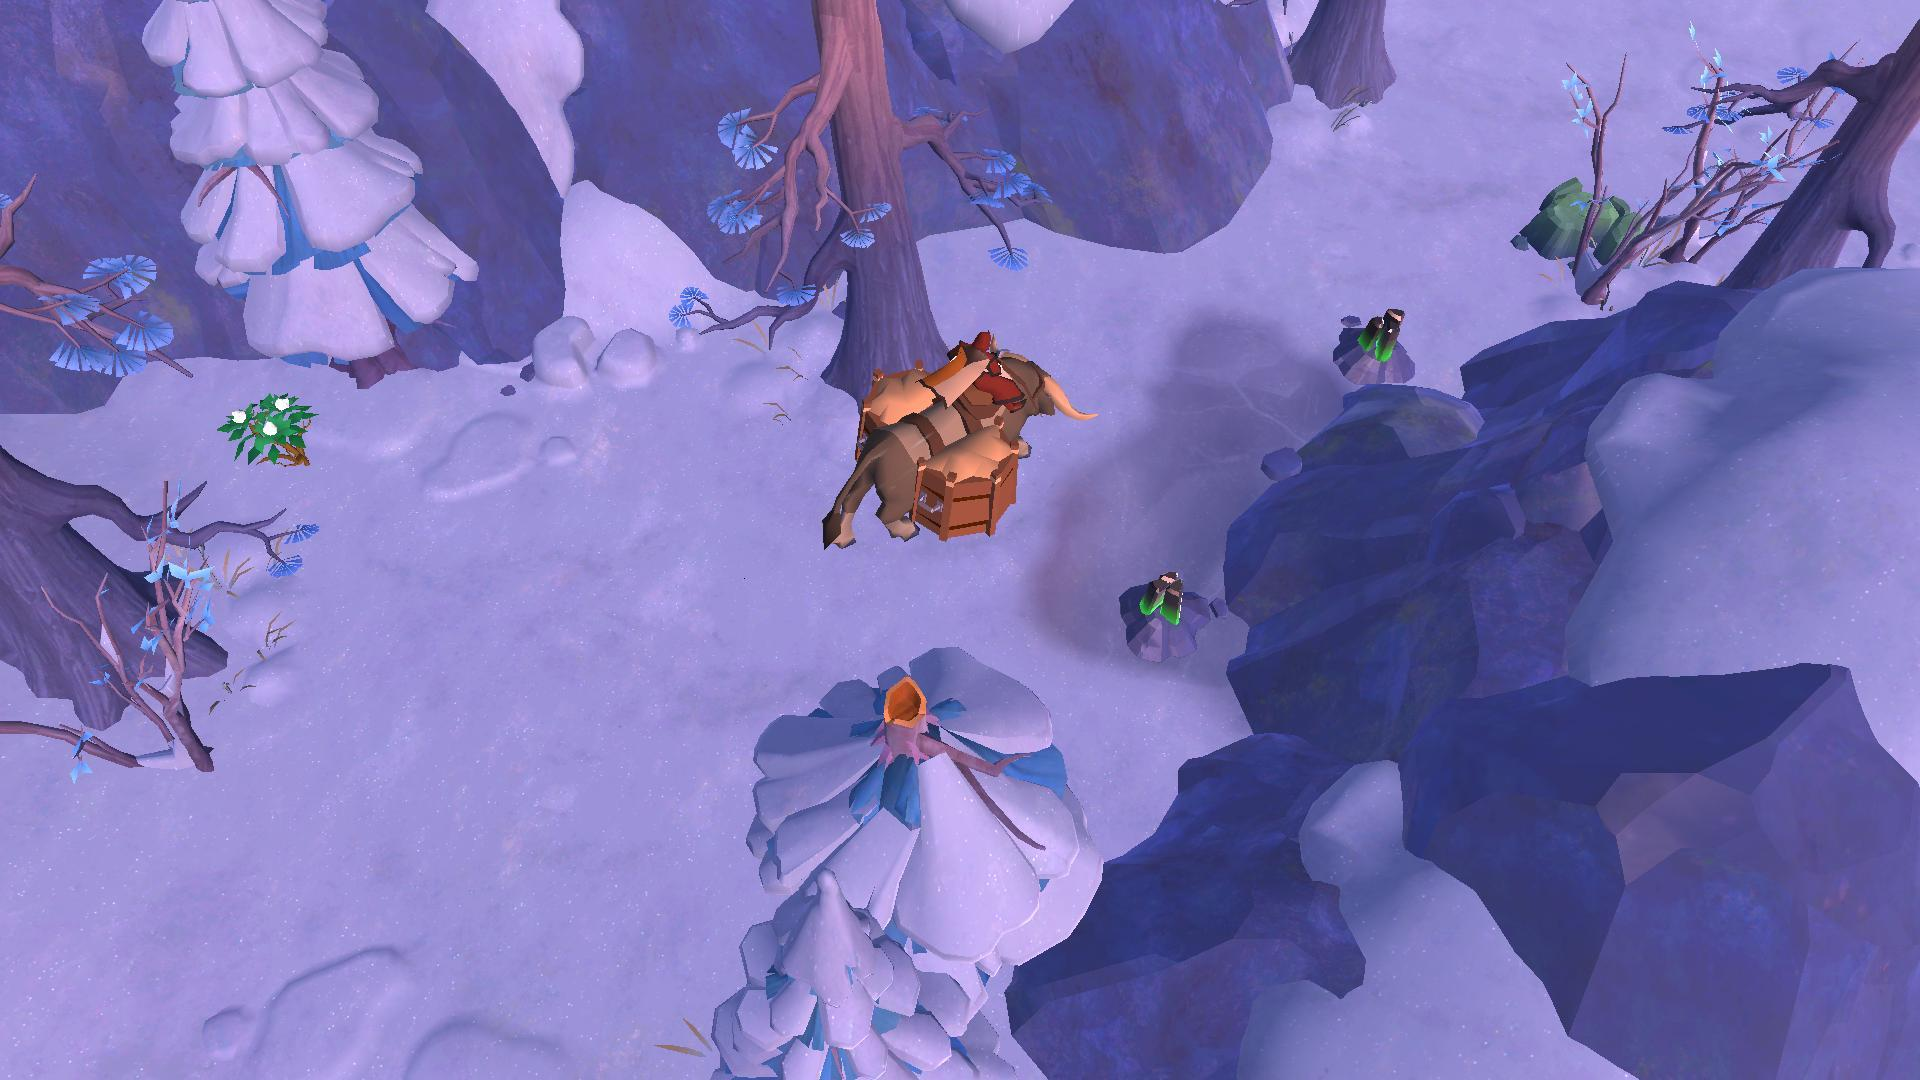fiber_t3: (219, 392, 320, 477)
ore_t3: (1127, 564, 1189, 622), (1356, 301, 1407, 368)
rock_t3: (1506, 169, 1643, 269)
